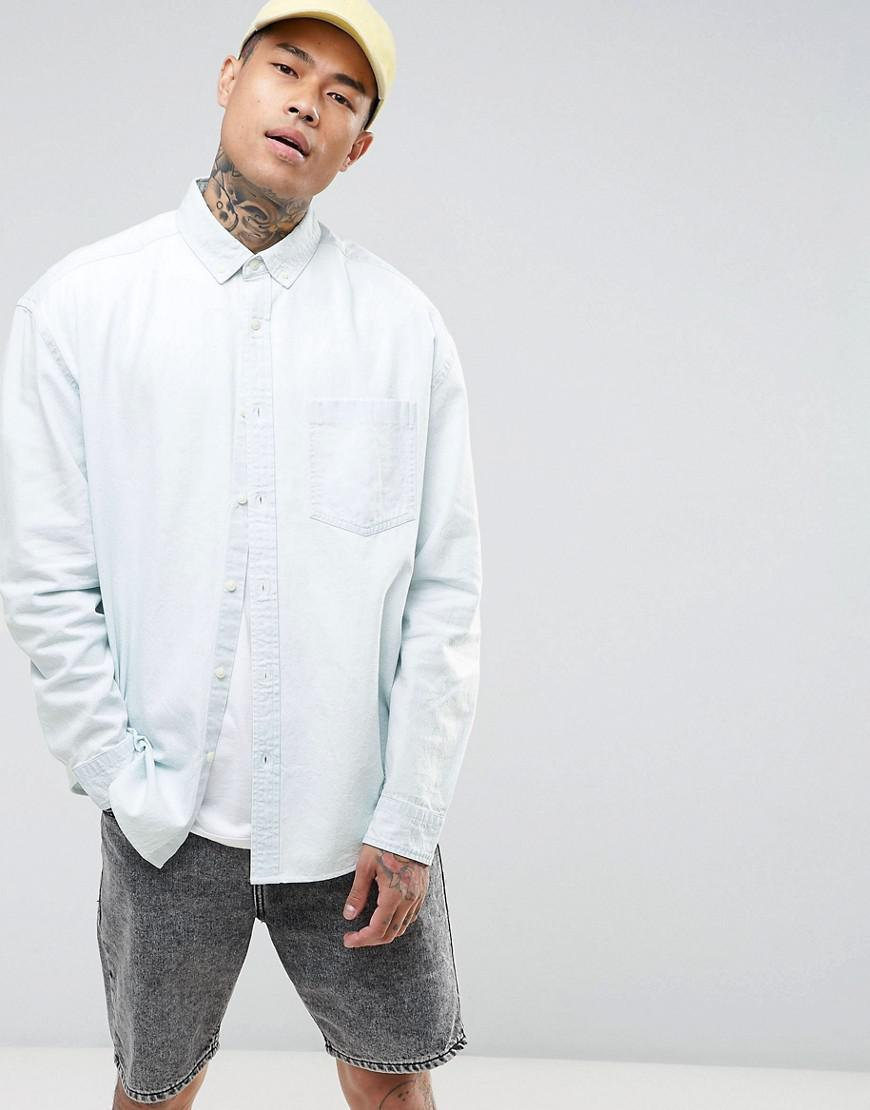teeshirt: (1, 207, 498, 925)
